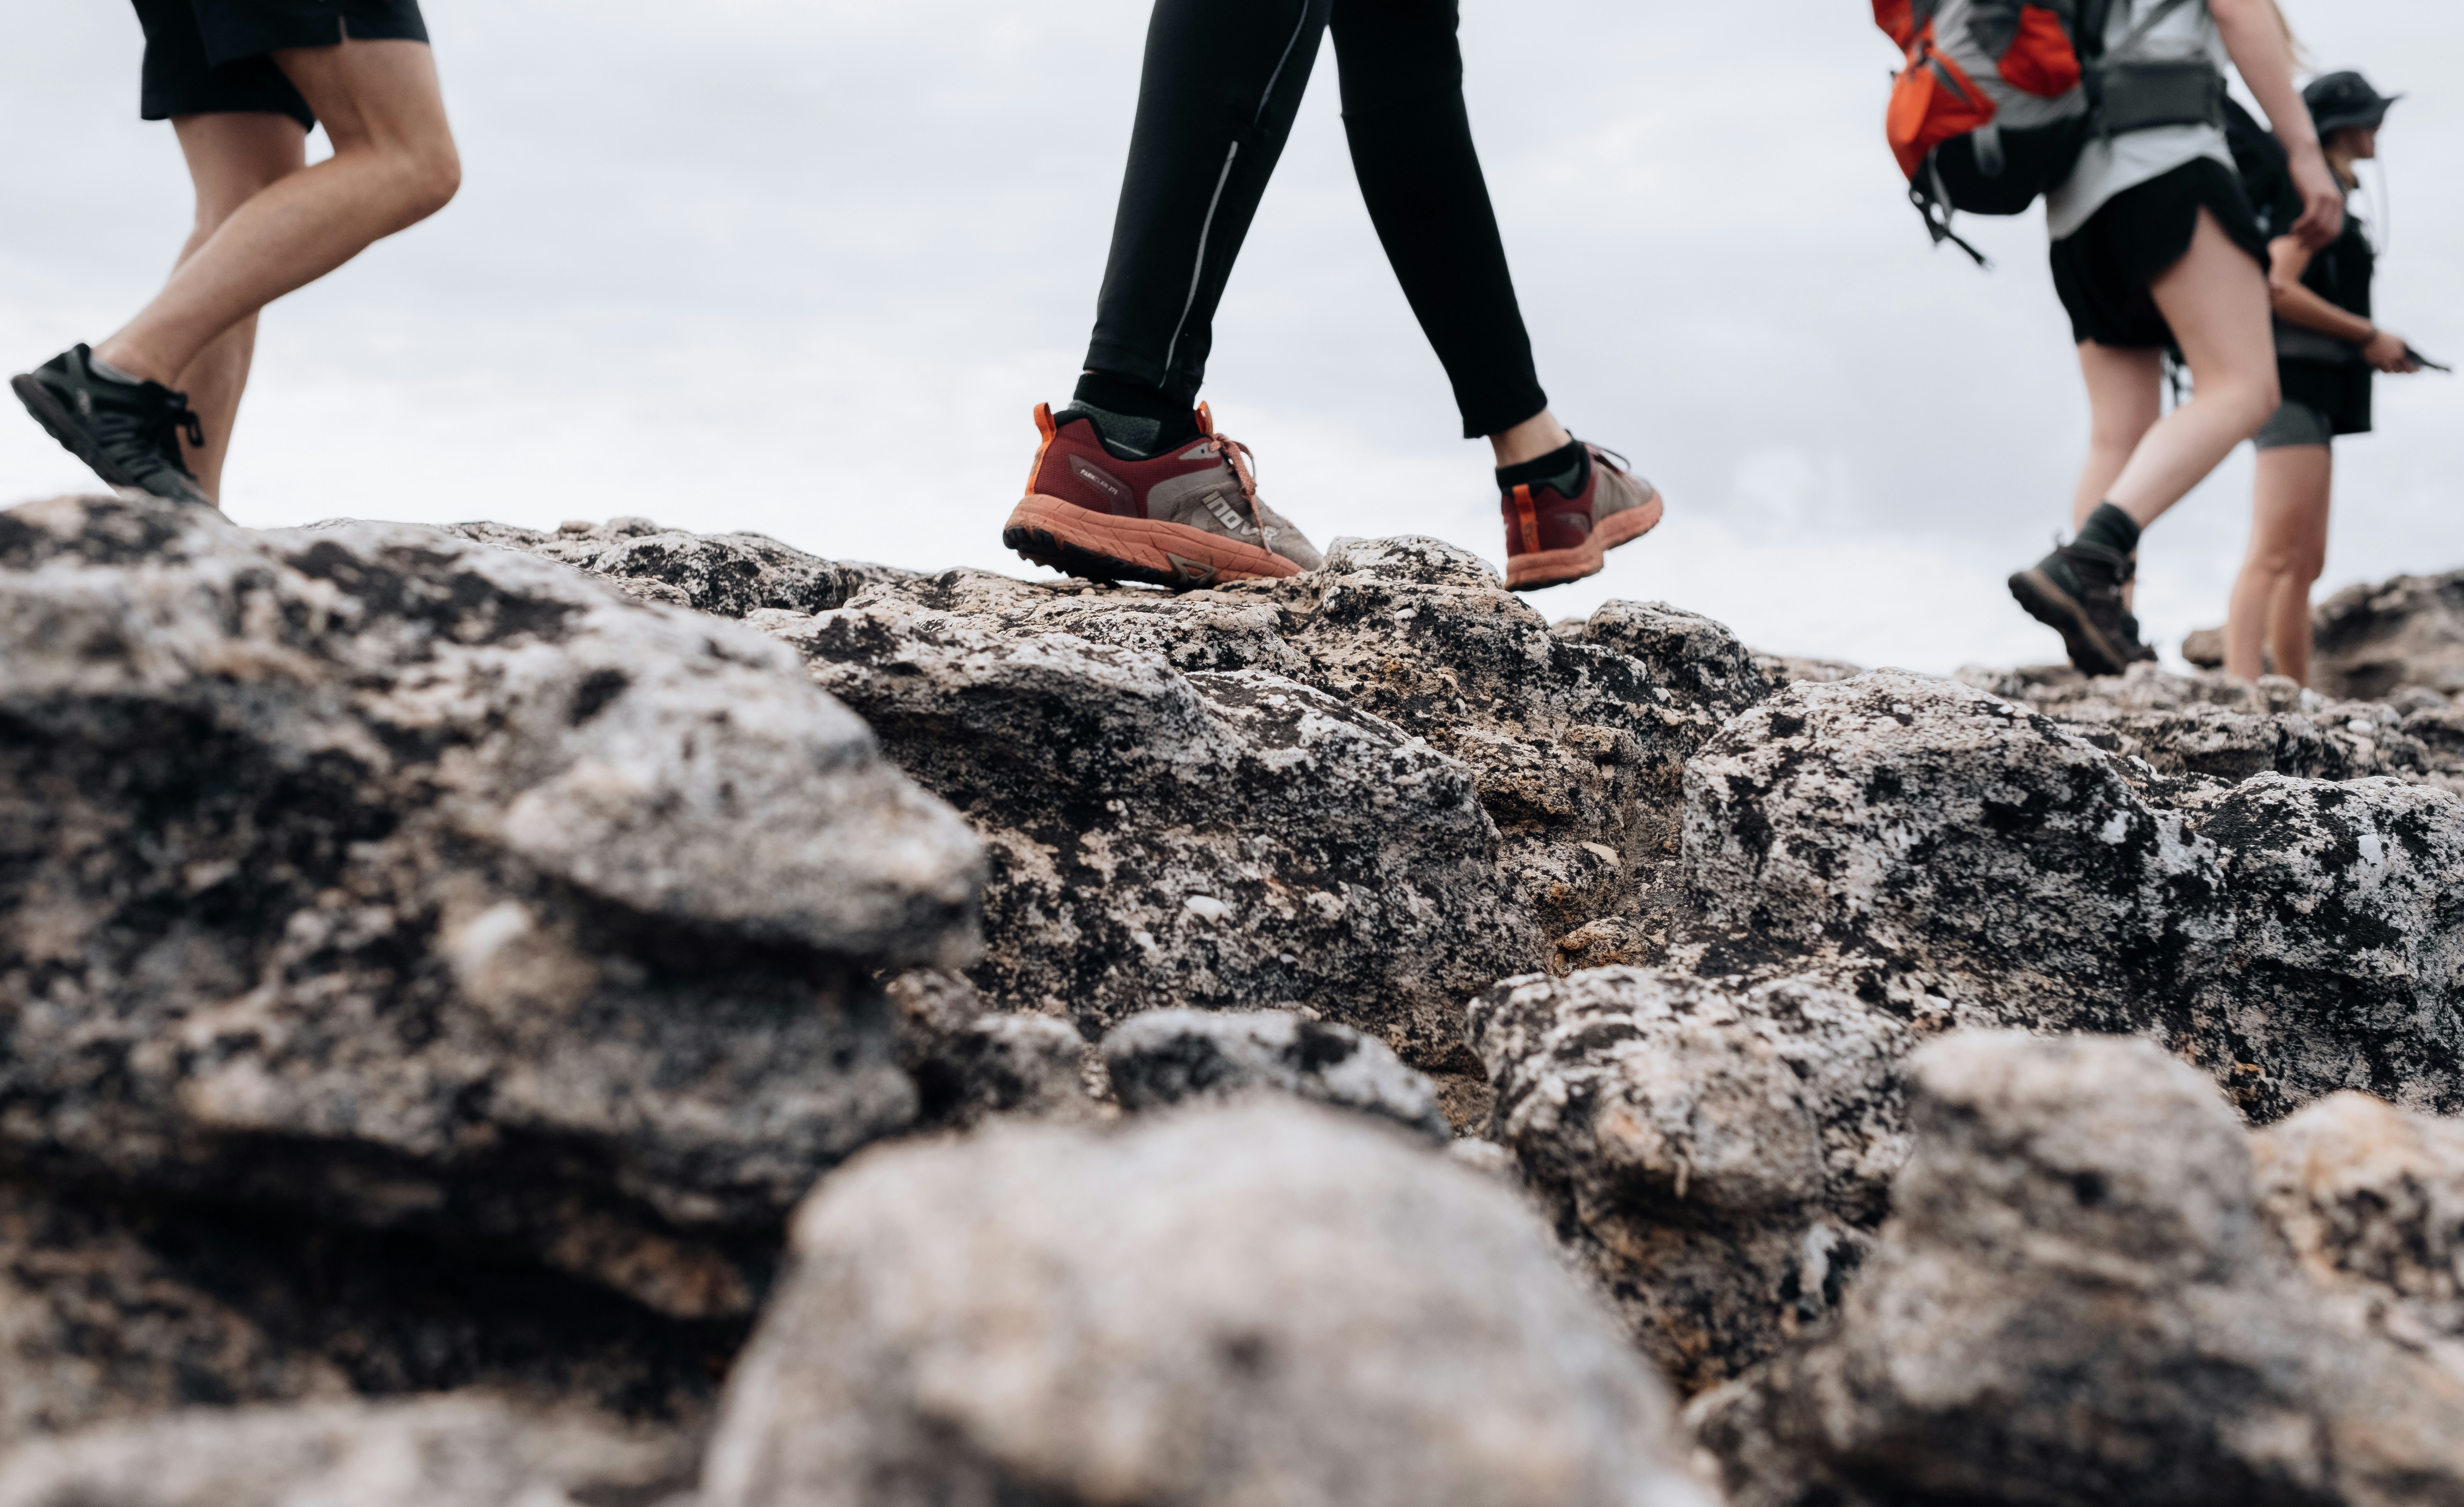Footwear: (938, 394, 1353, 576), (1480, 433, 1681, 607)
